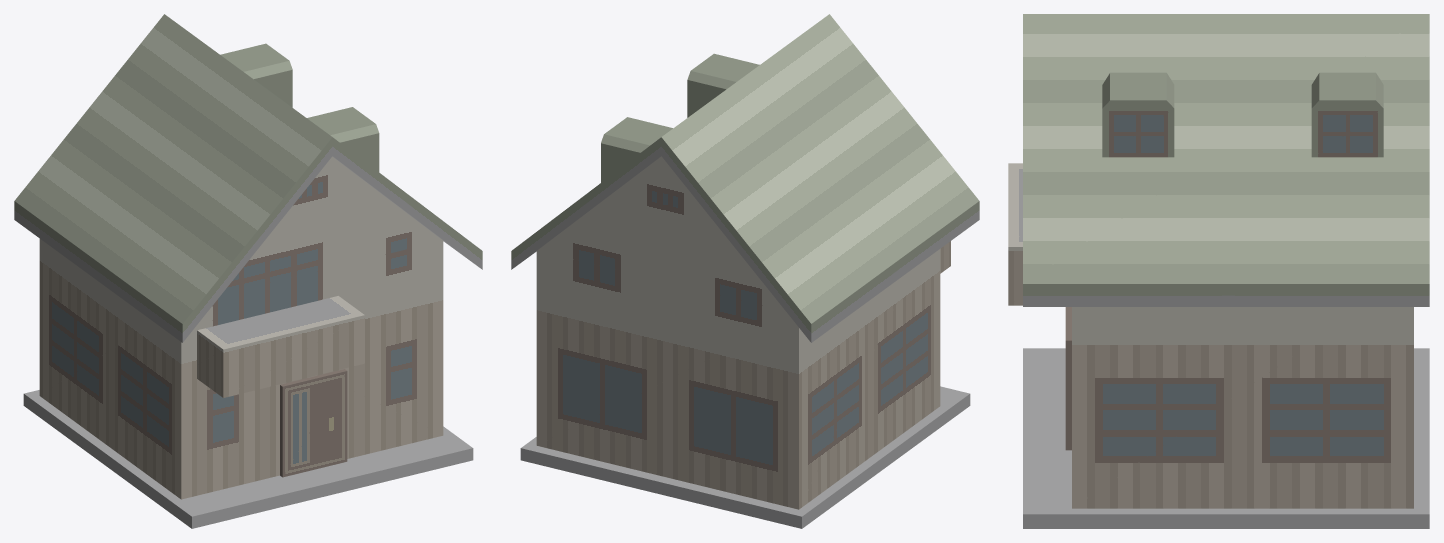
File: 0375_Hyodo_Residence.glb
3 renders of one model, left to right at view 1: azimuth 30°, elevation 25°; view 2: azimuth 150°, elevation 25°; view 3: azimuth 270°, elevation 25°, orthographic. The views are drawn at different scales.
Parts seen in each view (by area): view 1: part_0; view 2: part_0; view 3: part_0.
Boxes of the visible parts, x1,y1,x2,y2 form: part_0: [14, 14, 482, 528]; part_0: [511, 14, 979, 528]; part_0: [1008, 14, 1429, 528].
Size of the model in its own units: 6.4 by 7.29 by 6.44.
Materials: 1 (1 with a texture image).
